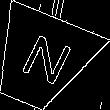N_SW: (10, 29, 72, 92)
